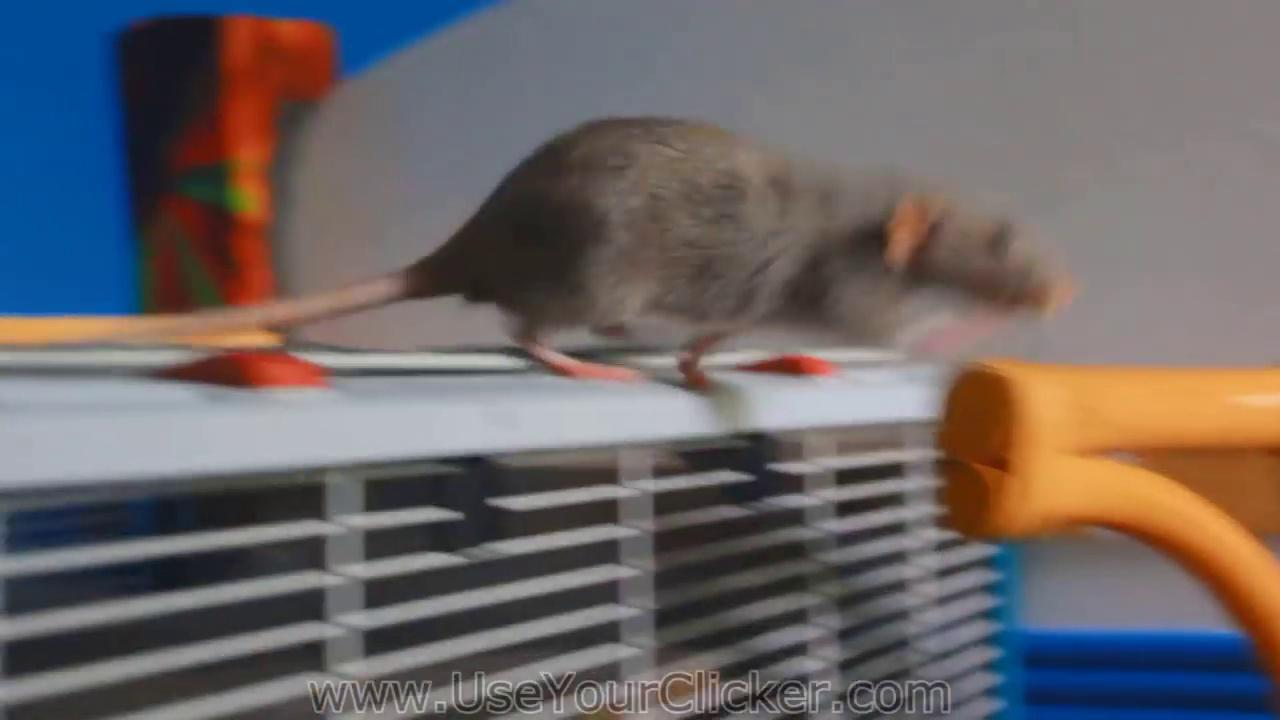rat: (2, 115, 1070, 382)
